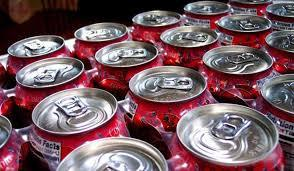Aluminum can: (23, 89, 138, 165), (172, 108, 287, 171), (97, 56, 220, 106), (8, 61, 100, 120), (204, 33, 282, 78), (78, 34, 167, 69), (8, 26, 66, 79), (56, 144, 165, 171), (142, 17, 228, 47), (178, 0, 271, 25), (235, 79, 294, 115), (61, 21, 132, 45), (128, 5, 179, 36)
